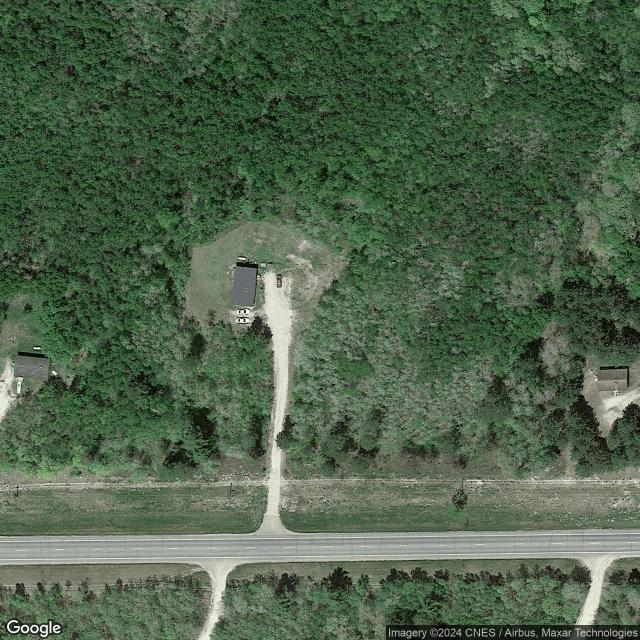Propane: (31, 345, 43, 351), (237, 256, 247, 261)
